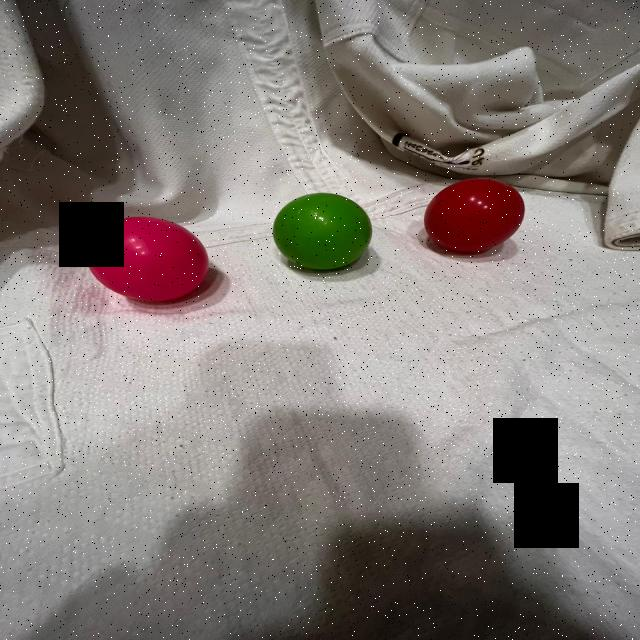ball: (80, 214, 212, 305), (270, 190, 374, 273), (422, 175, 527, 255)
